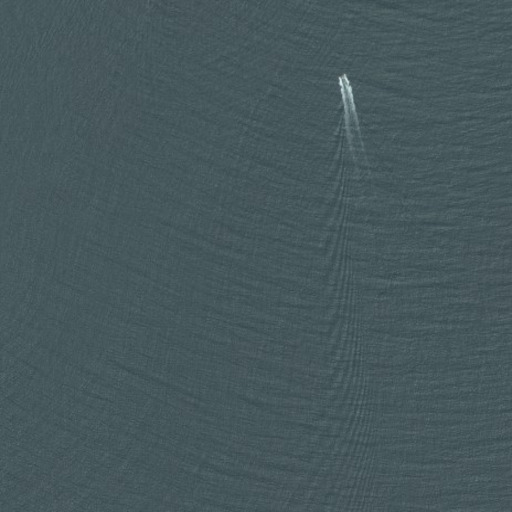ship: (334, 66, 350, 85)
